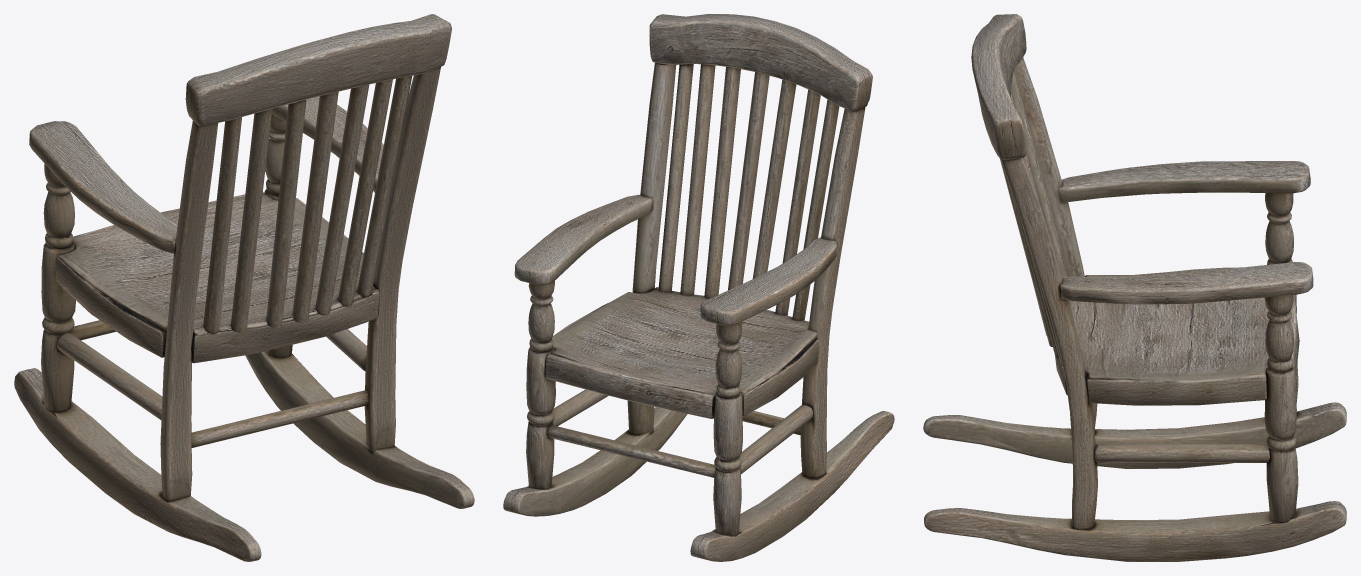
File: rocking_chair.glb
3 views of the same model, side by side, from view 1: azimuth 30°, elevation 25°; view 2: azimuth 150°, elevation 25°; view 3: azimuth 270°, elevation 25° (orthographic). The views are drawn at different scales.
Visible parts, largest first — view 1: rocking_chair; view 2: rocking_chair; view 3: rocking_chair.
Boxes of the visible parts, left/top/right/bottom form: rocking_chair: left=14, top=14, right=474, bottom=561; rocking_chair: left=503, top=14, right=894, bottom=561; rocking_chair: left=923, top=14, right=1346, bottom=561.
Size of the model in its own units: 0.5884 by 1 by 0.836.
1 material, 1 textured.
